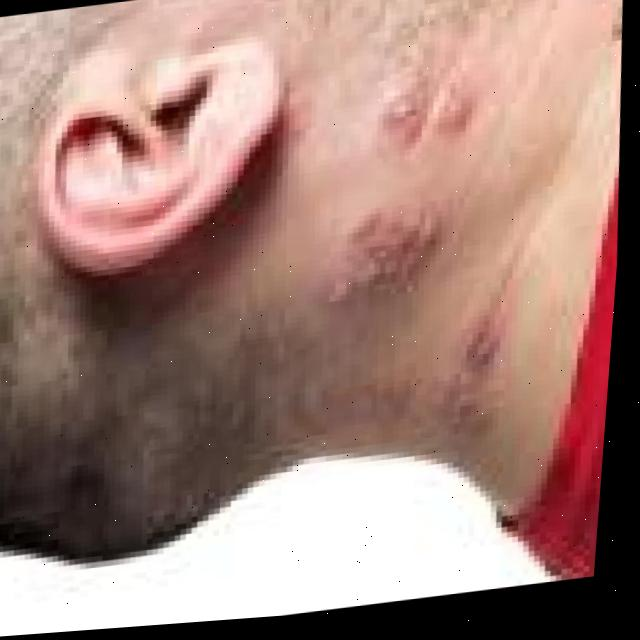Shingles: (332, 186, 449, 303), (360, 57, 479, 149), (437, 312, 504, 426)
